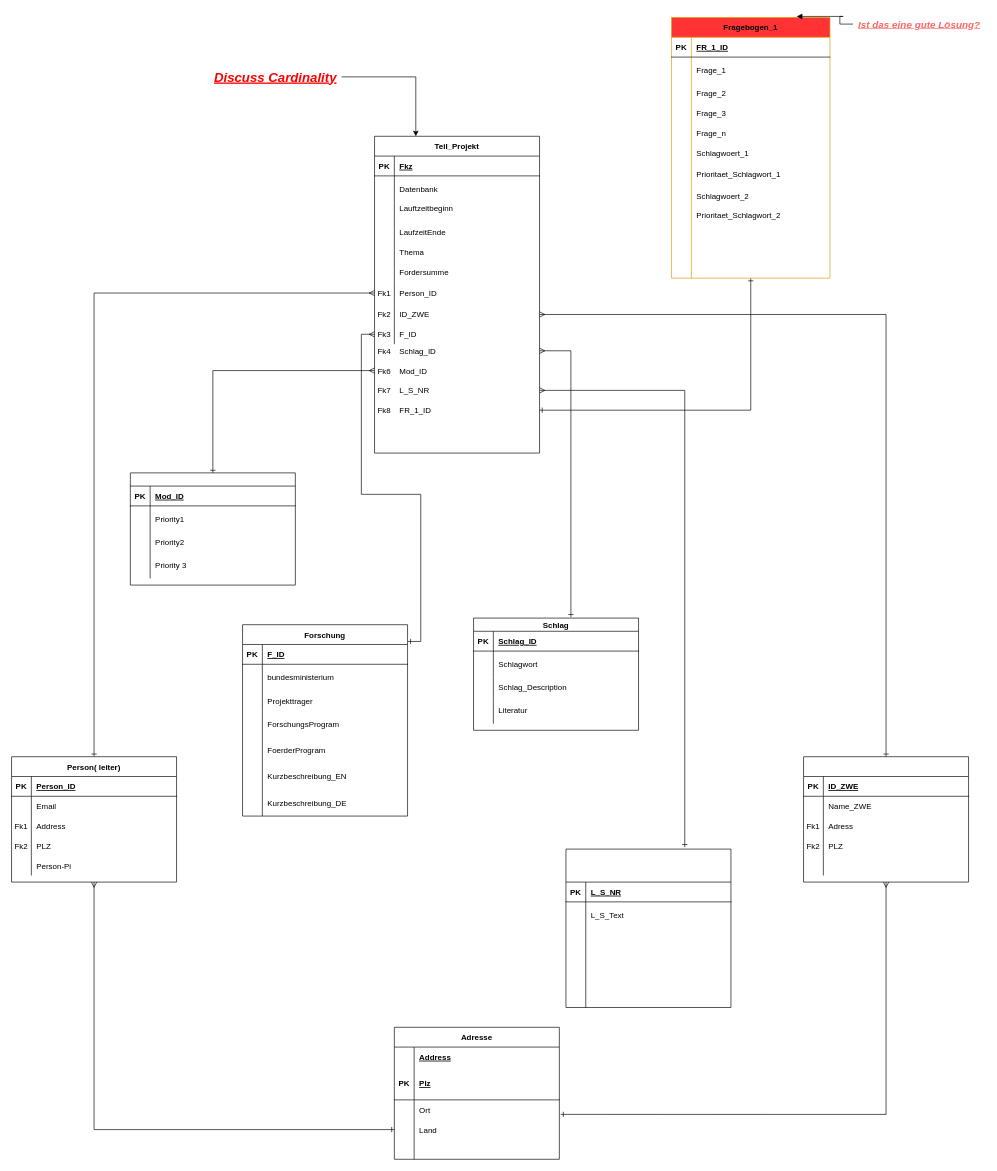
Image size: 997x1171. Some labels were removed from this diagram. Here are the shapes that lost their labels. From the top down, the box of each, then its label:
(130, 472, 295, 585): Modulen_Priority
(803, 756, 969, 882): Executingentity
(565, 848, 731, 1007): Leistung_Sys
